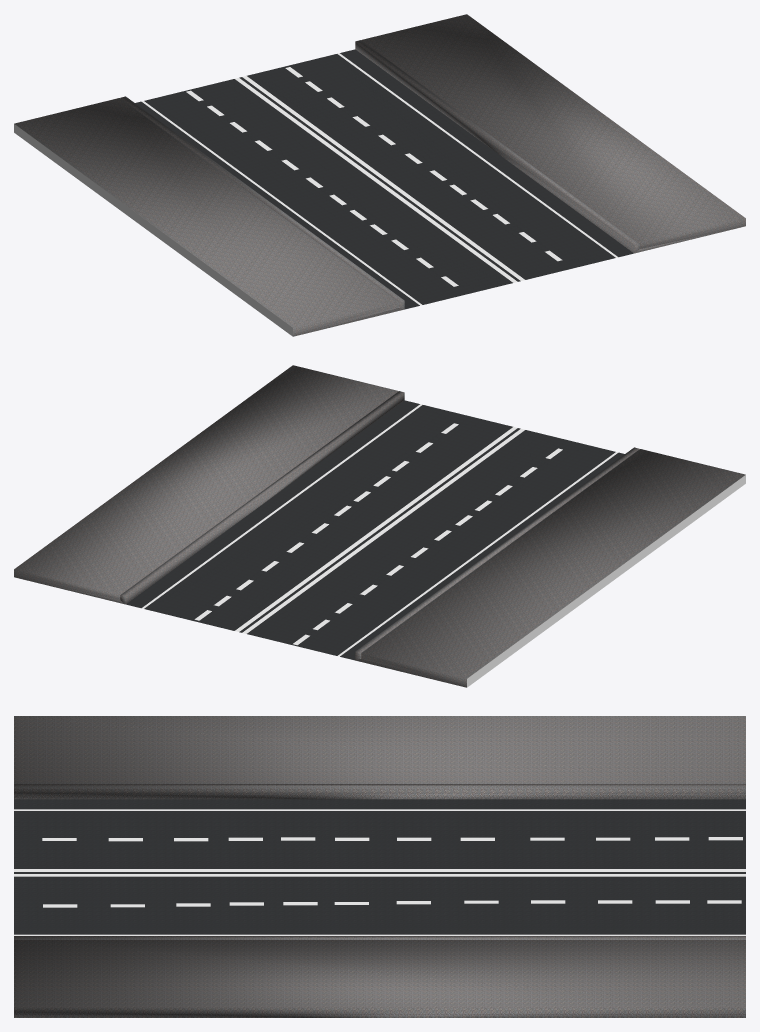
The model's file is road4.dae.
3 views of the same model, one above another, from view 1: azimuth 30°, elevation 25°; view 2: azimuth 150°, elevation 25°; view 3: azimuth 270°, elevation 25° (orthographic). The views are drawn at different scales.
Parts seen in each view (by area): view 1: Concrete_Aggregate_Sm, Asphalt_New, Color_E02, Color_002; view 2: Concrete_Aggregate_Sm, Asphalt_New, Color_E02, Color_002; view 3: Concrete_Aggregate_Sm, Asphalt_New, Color_E02.
Boxes of the visible parts, <box> form: Concrete_Aggregate_Sm: <box>14,14,745,336</box>; Asphalt_New: <box>135,49,633,309</box>; Color_E02: <box>141,53,617,305</box>; Color_002: <box>14,124,292,336</box>; Concrete_Aggregate_Sm: <box>14,365,745,687</box>; Asphalt_New: <box>126,400,624,660</box>; Color_E02: <box>142,404,618,656</box>; Color_002: <box>467,475,745,687</box>; Concrete_Aggregate_Sm: <box>14,716,745,1017</box>; Asphalt_New: <box>14,799,745,934</box>; Color_E02: <box>14,809,745,935</box>.
Size of the model in its own units: 900 by 960 by 17.
Materials: 3 (3 with a texture image).
